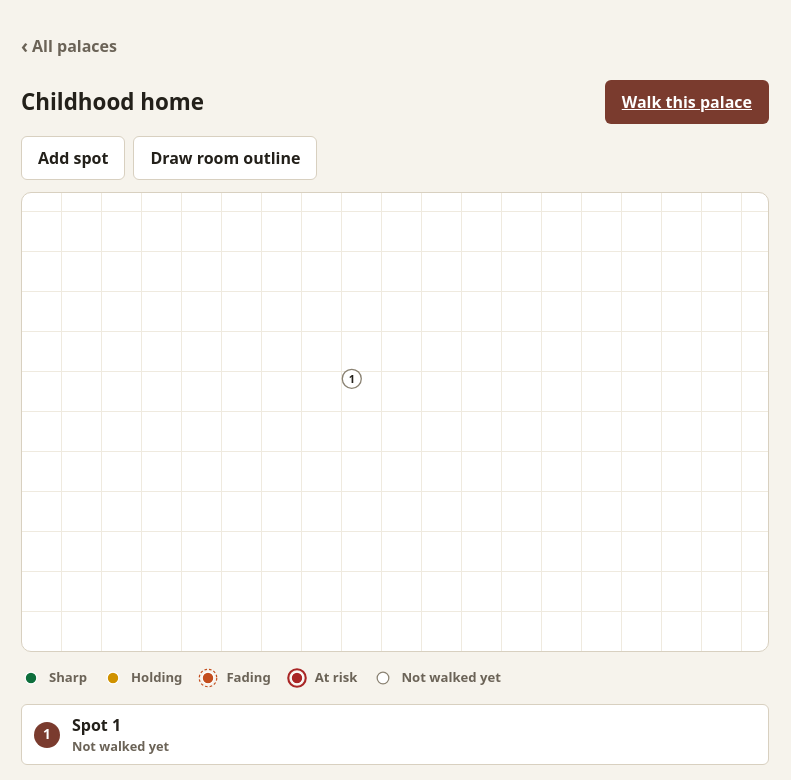
Test case: PalaceEditor › shows the save-failure copy and Retry re-persists
Expected: the heading "Childhood home" is shown, [21,89,204,116]
Click the button "1 Spot 1 Not walked yet": [97, 725] box [21,704,769,765]
(page scrolled)
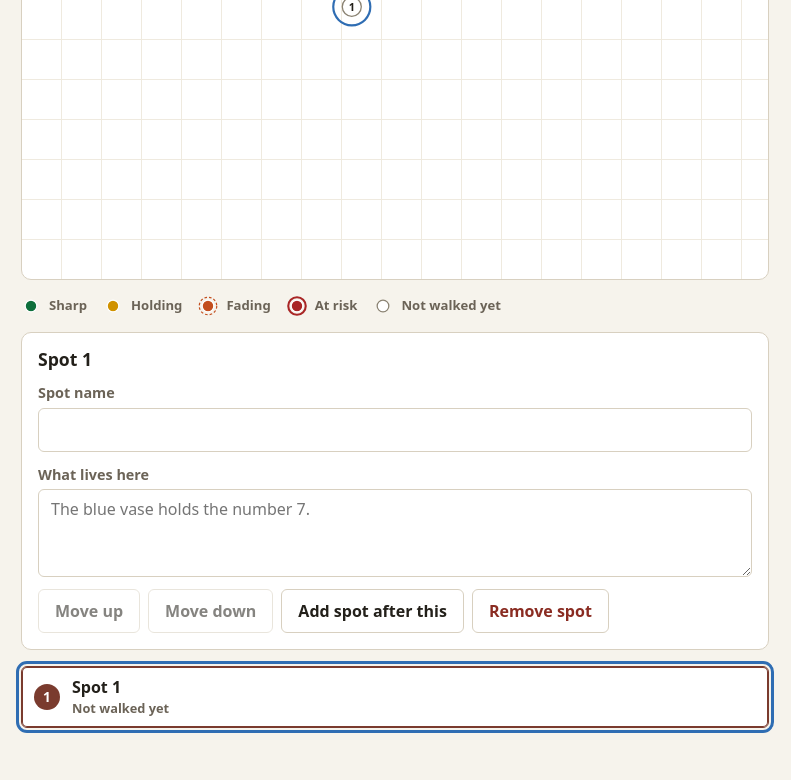
In the field labelled "Spot name": [395, 430] box [38,408,752,452], type "Door"
(page scrolled)
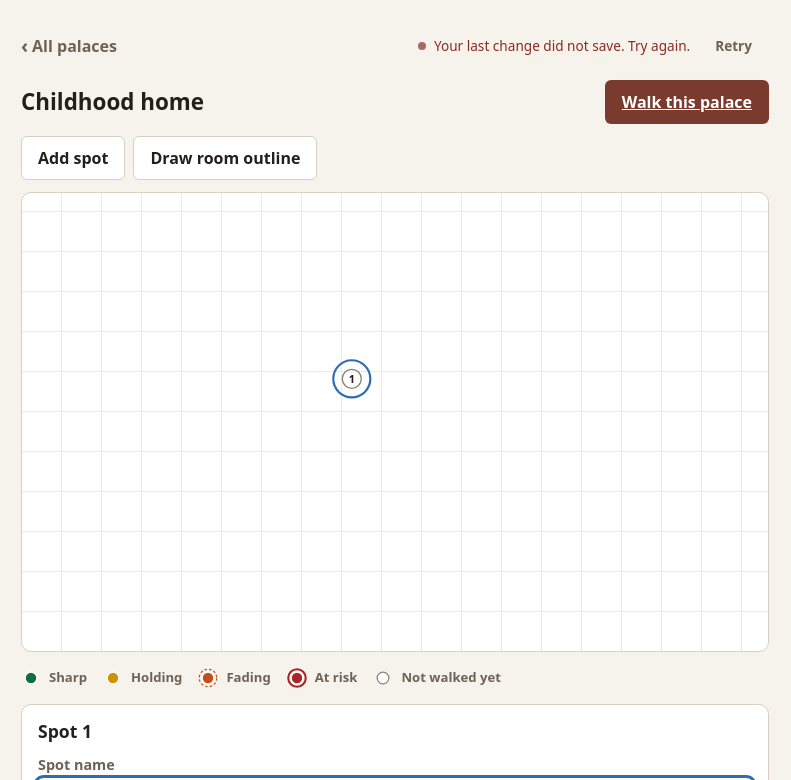
Expected: the text "Your last change did not save. Try again." is shown, [434,36,690,56]
Click the button "Retry": [734, 46] box [698,24,769,68]
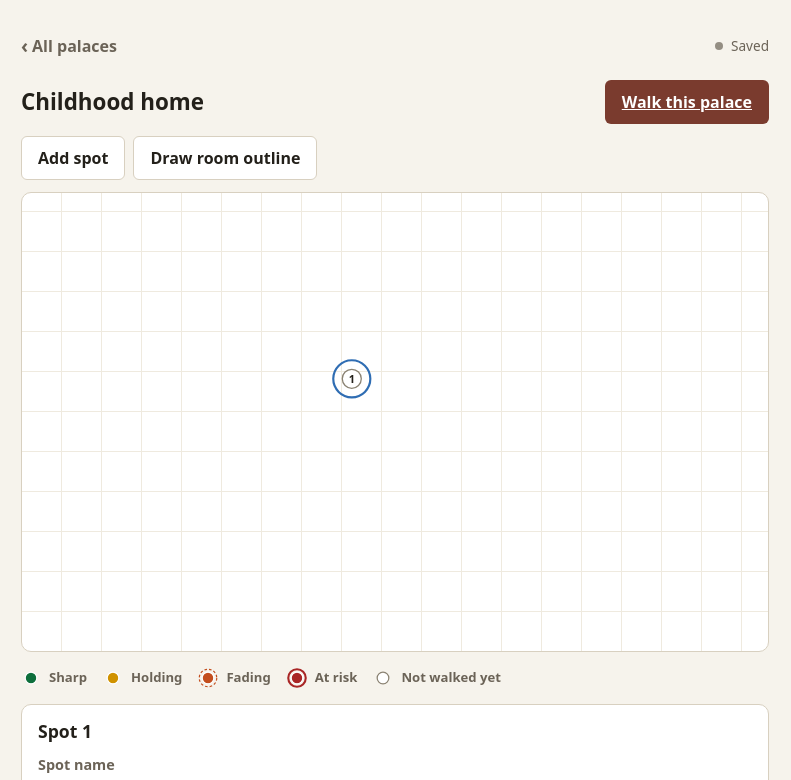
Expected: the text "Saved" is shown, [731,36,769,56]
